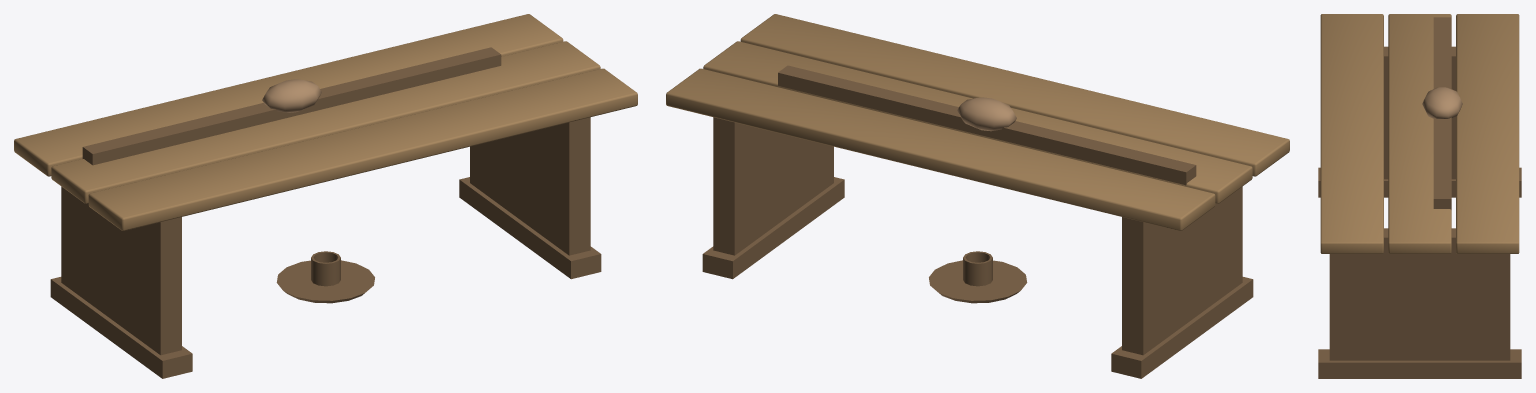
Rendered from table.glb.
3 renders of one model, left to right at view 1: azimuth 30°, elevation 25°; view 2: azimuth 150°, elevation 25°; view 3: azimuth 270°, elevation 25°, orthographic. The views are drawn at different scales.
Parts seen in each view (by area): view 1: plank0, plank1, plank2, leg-1, leg1, stretcher, foot-1, foot1, plate, roast, mug0; view 2: plank2, plank0, leg-1, leg1, plank1, stretcher, foot-1, foot1, plate, roast, mug0; view 3: leg1, plank0, plank2, plank1, foot1, stretcher, leg-1, roast, foot-1.
Part boxes in pixels (left/top/right/bottom): plank0: left=88, top=68, right=637, bottom=230; plank1: left=51, top=41, right=600, bottom=203; plank2: left=14, top=14, right=563, bottom=176; leg-1: left=61, top=186, right=181, bottom=355; leg1: left=470, top=117, right=590, bottom=255; stretcher: left=82, top=47, right=501, bottom=165; foot-1: left=50, top=277, right=192, bottom=378; foot1: left=459, top=177, right=601, bottom=279; plate: left=276, top=260, right=374, bottom=303; roast: left=262, top=79, right=321, bottom=112; mug0: left=311, top=251, right=340, bottom=286; plank2: left=666, top=68, right=1215, bottom=230; plank0: left=740, top=14, right=1289, bottom=176; leg-1: left=1122, top=186, right=1242, bottom=355; leg1: left=713, top=117, right=833, bottom=255; plank1: left=703, top=41, right=1252, bottom=203; stretcher: left=778, top=65, right=1196, bottom=185; foot-1: left=1111, top=277, right=1253, bottom=378; foot1: left=702, top=177, right=844, bottom=279; plate: left=929, top=260, right=1027, bottom=303; roast: left=957, top=97, right=1016, bottom=131; mug0: left=963, top=251, right=992, bottom=286; leg1: left=1329, top=228, right=1510, bottom=360; plank0: left=1320, top=14, right=1383, bottom=253; plank2: left=1456, top=14, right=1519, bottom=253; plank1: left=1388, top=14, right=1451, bottom=253; foot1: left=1318, top=349, right=1521, bottom=378; stretcher: left=1433, top=17, right=1451, bottom=209; leg-1: left=1384, top=46, right=1455, bottom=179; roast: left=1422, top=87, right=1462, bottom=118; foot-1: left=1318, top=167, right=1521, bottom=197.
Size of the model in its own units: 2.4 by 0.88 by 0.9.
